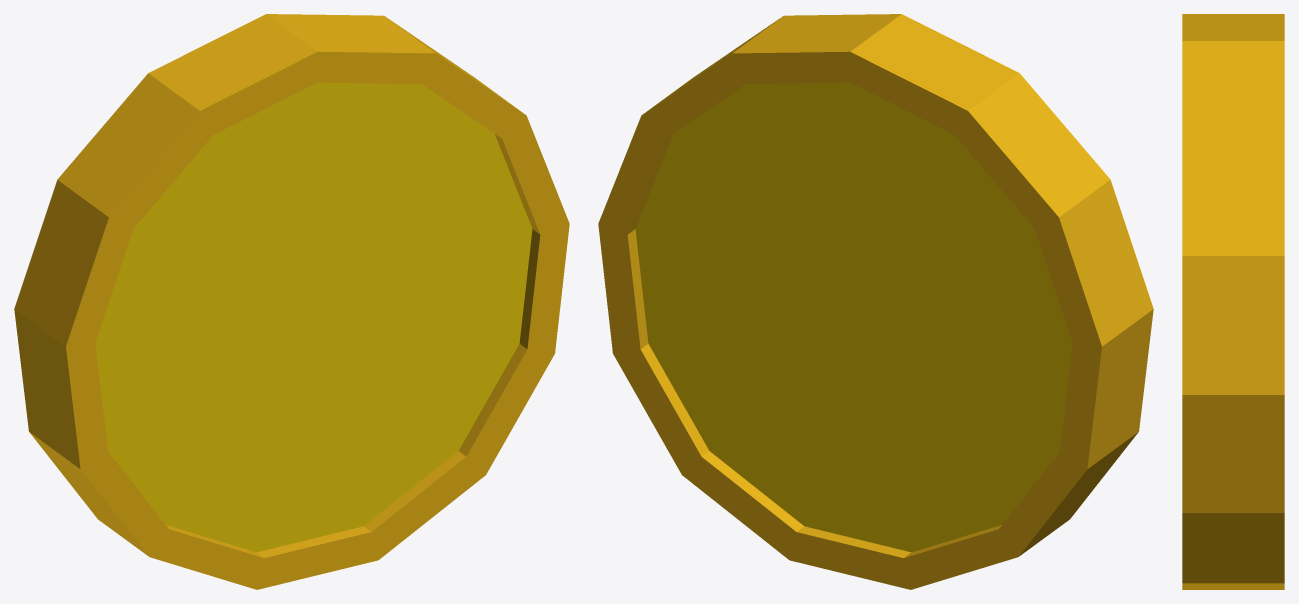
Rendered from PINIÓNDZ.fbx.
3 renders of one model, left to right at view 1: azimuth 30°, elevation 25°; view 2: azimuth 150°, elevation 25°; view 3: azimuth 270°, elevation 25°, orthographic.
Visible parts, largest first — view 1: Coin, Cylinder.002; view 2: Coin, Cylinder.002; view 3: Cylinder.002.
Part boxes in pixels (x1,y1,x2,y2): Coin: (95,82,532,552); Cylinder.002: (14,14,569,589); Coin: (635,82,1072,552); Cylinder.002: (598,14,1153,589); Cylinder.002: (1182,14,1284,589).
Bounding box in the file's own units: 2.53 × 2.51 × 0.4491.
